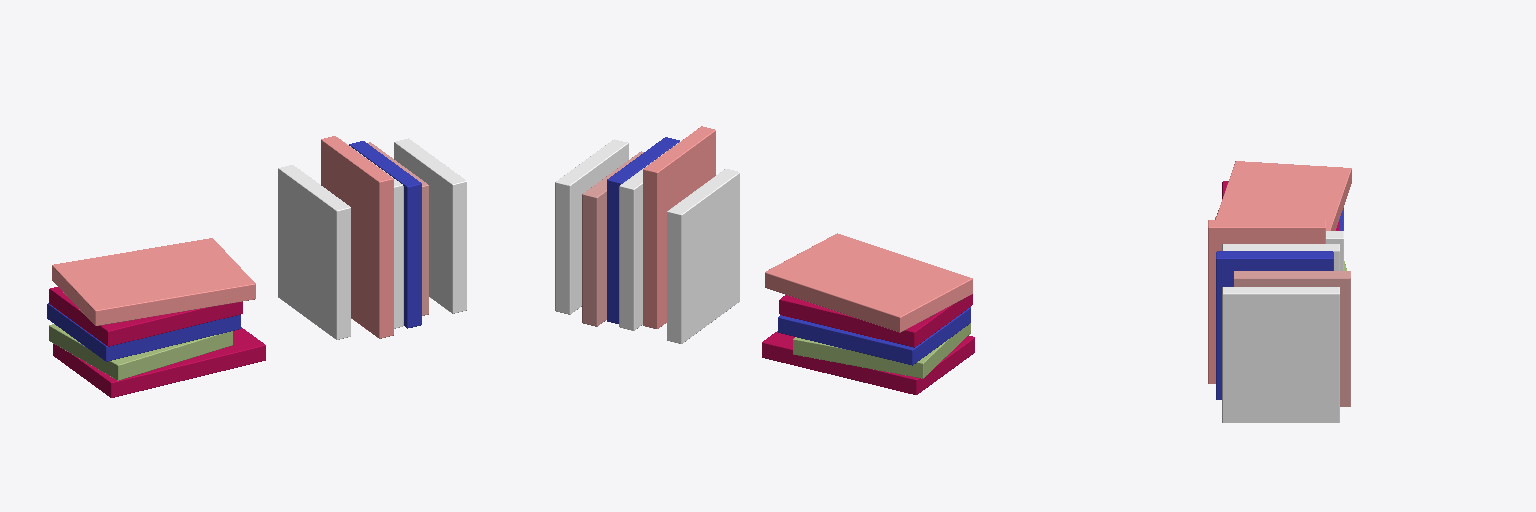
File: book1.obj
3 views of the same model, side by side, from view 1: azimuth 30°, elevation 25°; view 2: azimuth 150°, elevation 25°; view 3: azimuth 270°, elevation 25° (orthographic).
Parts seen in each view (by area): view 1: 立方体.11, 立方体.8, 立方体.6, 立方体.1, 立方体.15, 立方体.4, 立方体.12, 立方体.14, 立方体.13, 立方体.5, 立方体.3; view 2: 立方体.11, 立方体.8, 立方体.6, 立方体.1, 立方体.5, 立方体.3, 立方体.15, 立方体.13, 立方体.12, 立方体.14, 立方体.4; view 3: 立方体.1, 立方体.11, 立方体.6, 立方体.4, 立方体.3, 立方体.5.
Part boxes in pixels (left/top/right/bottom): 立方体.11: left=52, top=238, right=255, bottom=325; 立方体.8: left=278, top=165, right=350, bottom=339; 立方体.6: left=321, top=136, right=393, bottom=338; 立方体.1: left=394, top=138, right=466, bottom=313; 立方体.15: left=53, top=327, right=265, bottom=397; 立方体.4: left=349, top=141, right=421, bottom=328; 立方体.12: left=49, top=287, right=242, bottom=346; 立方体.14: left=49, top=324, right=232, bottom=380; 立方体.13: left=47, top=303, right=240, bottom=361; 立方体.5: left=346, top=143, right=403, bottom=328; 立方体.3: left=368, top=142, right=428, bottom=315; 立方体.11: left=765, top=233, right=972, bottom=332; 立方体.8: left=667, top=169, right=739, bottom=343; 立方体.6: left=643, top=126, right=715, bottom=328; 立方体.1: left=555, top=139, right=628, bottom=314; 立方体.5: left=619, top=143, right=677, bottom=330; 立方体.3: left=582, top=151, right=643, bottom=326; 立方体.15: left=762, top=331, right=974, bottom=394; 立方体.13: left=778, top=307, right=970, bottom=365; 立方体.12: left=779, top=294, right=972, bottom=347; 立方体.14: left=793, top=323, right=970, bottom=378; 立方体.4: left=607, top=137, right=679, bottom=323; 立方体.1: left=1222, top=287, right=1339, bottom=422; 立方体.11: left=1215, top=161, right=1351, bottom=230; 立方体.6: left=1208, top=220, right=1325, bottom=383; 立方体.4: left=1216, top=251, right=1333, bottom=399; 立方体.3: left=1234, top=271, right=1350, bottom=406; 立方体.5: left=1222, top=244, right=1339, bottom=270.
Bounding box in the file's own units: 94.47 × 38.88 × 32.15.